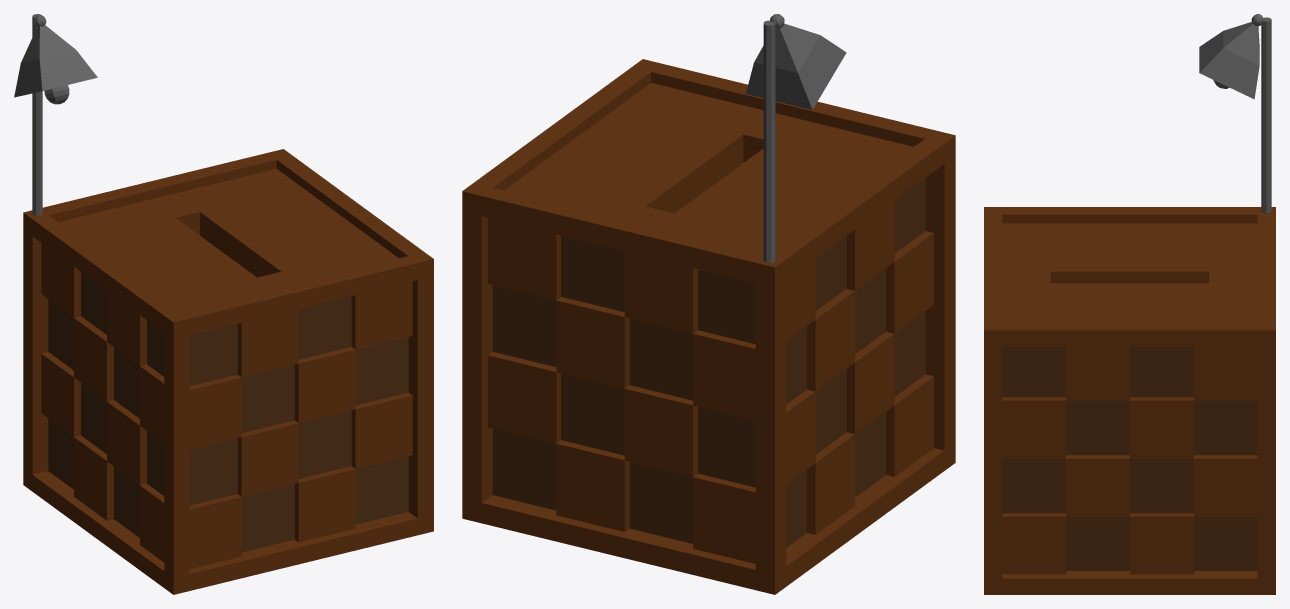
Rendered from musicbox.fbx.
3 views of the same model, side by side, from view 1: azimuth 30°, elevation 25°; view 2: azimuth 150°, elevation 25°; view 3: azimuth 270°, elevation 25° (orthographic). The views are drawn at different scales.
Visible parts, largest first — view 1: Sphere.001; view 2: Sphere.001; view 3: Sphere.001.
Part boxes in pixels (x1,y1,x2,y2): Sphere.001: (14,14,433,594); Sphere.001: (462,14,955,594); Sphere.001: (984,14,1275,594).
Size of the model in its own units: 215 by 348 by 200.
